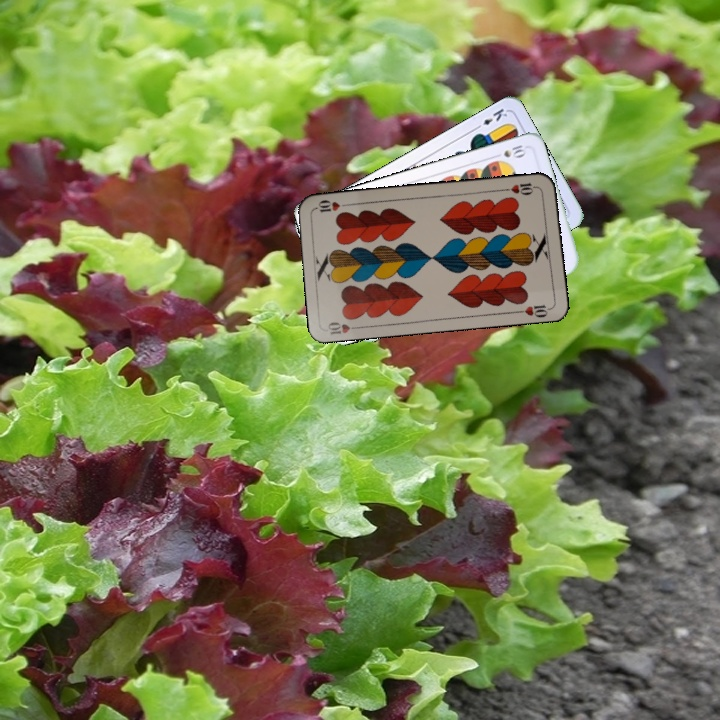EK: (471, 104, 510, 132)
H10: (500, 178, 541, 197), (324, 318, 364, 337)
S10: (489, 141, 529, 161)
